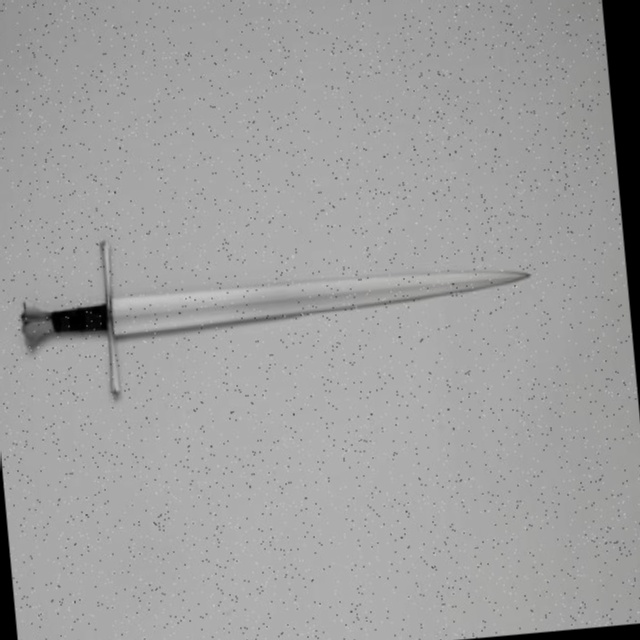Sharp-Object: (11, 250, 535, 371)
